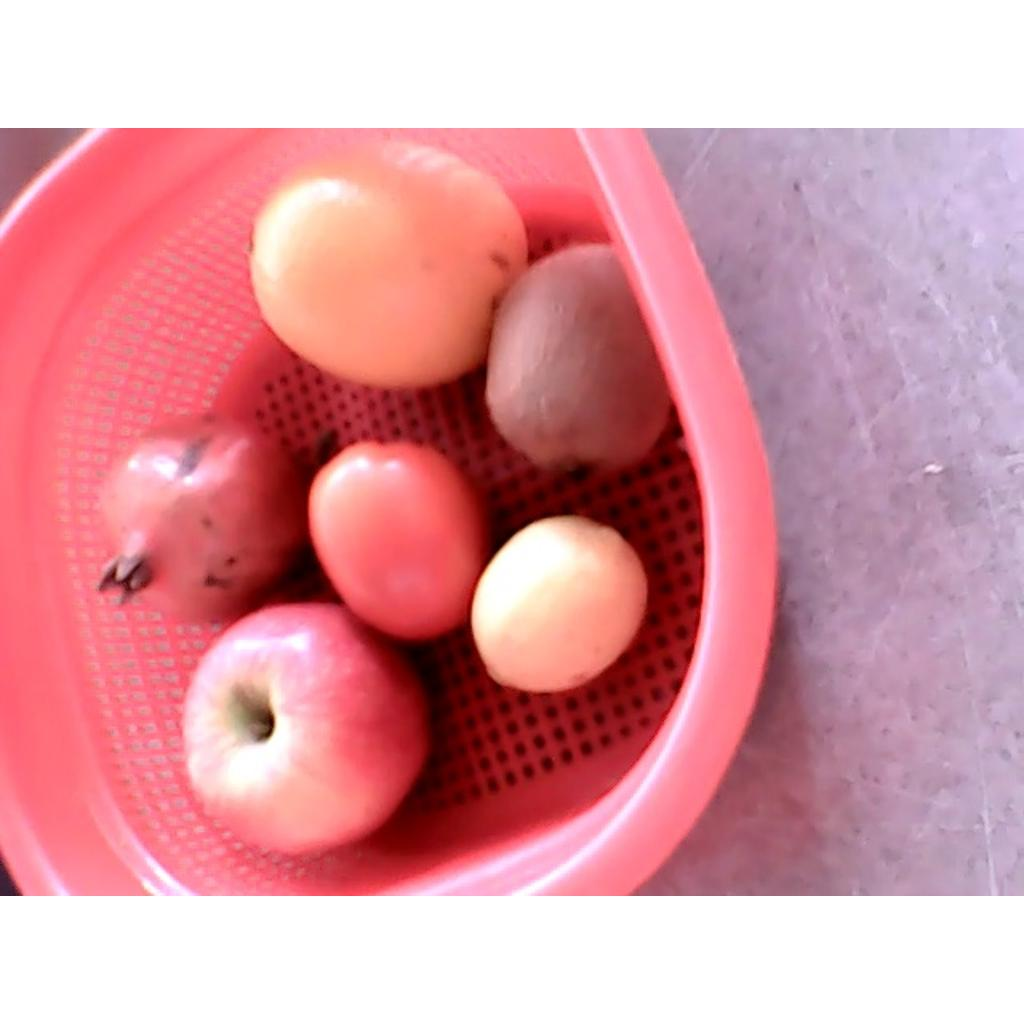apple: (185, 601, 430, 861)
kiwi: (486, 244, 672, 479)
lemon: (471, 518, 651, 692)
orange: (247, 138, 526, 389)
pomegranate: (91, 408, 312, 630)
tomato: (309, 440, 491, 643)
